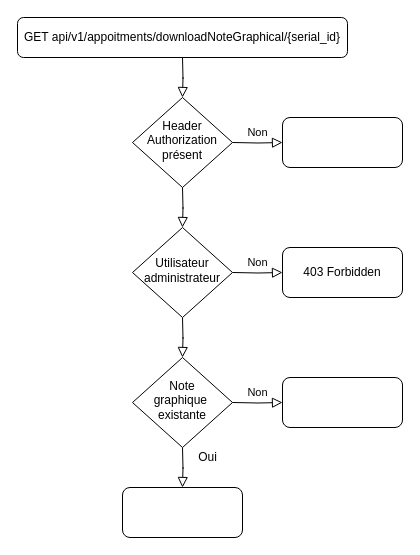
The diagram is 420 pixels wide and 555 high, and some of its shapes have lost their labels. Here are the shapes that lost their labels. From the top down, the centre of each, then its label:
At pixel 342 142: "401 Unauthorized".
At pixel 342 402: "404 Not Found".
At pixel 182 512: "200 OK Avec résultat en JSON".
